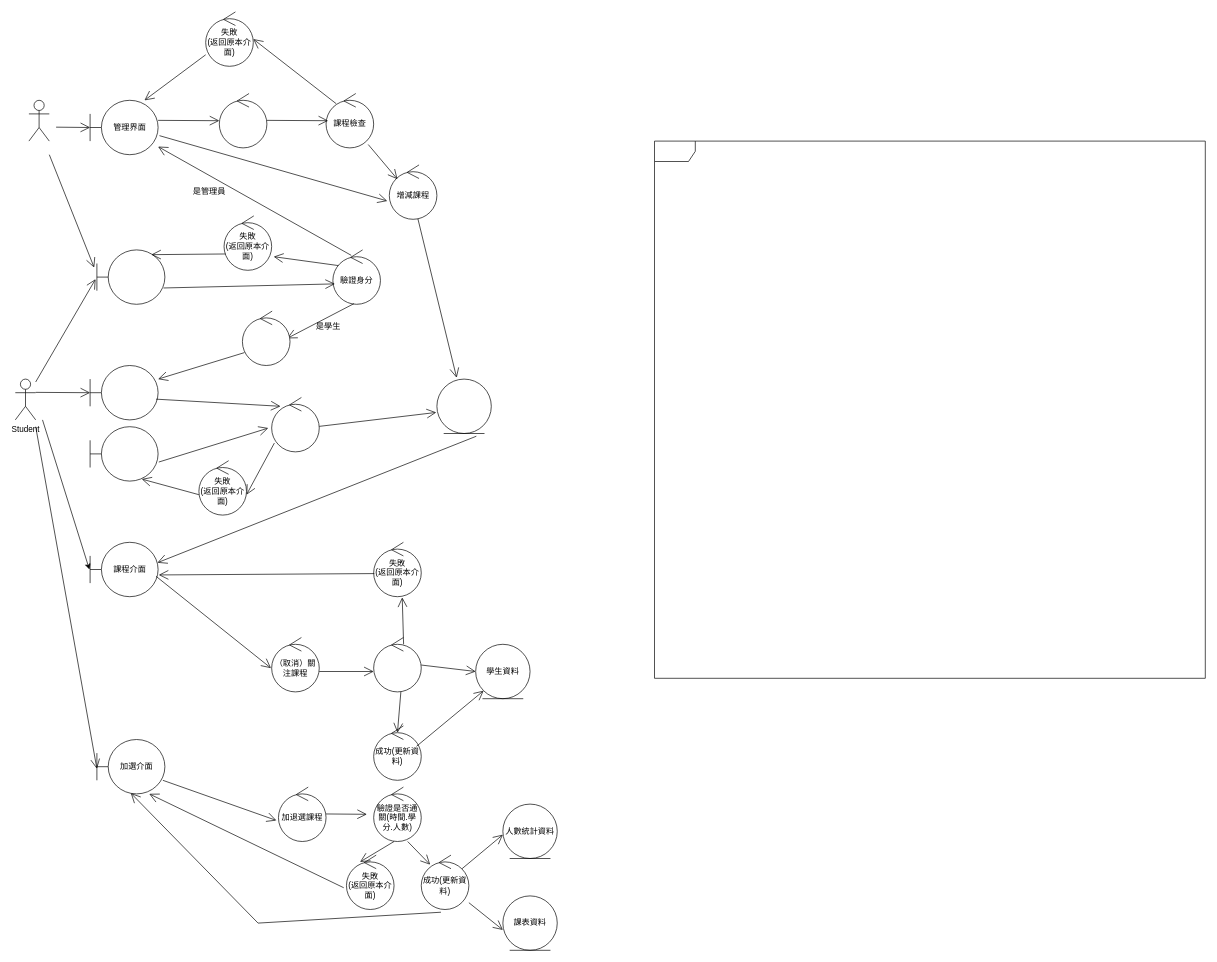
This 1217x962 diagram has some shape labels left out. The shapes that lost their labels are listed below. From the top down, each one's centre as x and y in pixels, then its label:
At point (38, 120): "Manager".
At point (243, 120): "搜尋課程".
At point (130, 276): "登入系統".
At point (266, 338): "跳轉至搜尋界面".
At point (123, 392): "搜尋介面".
At point (463, 406): "課程資料".
At point (929, 409): "選課系統".
At point (295, 424): "查找特定課程".
At point (123, 453): "查詢介面".
At point (397, 664): "檢查資格".
